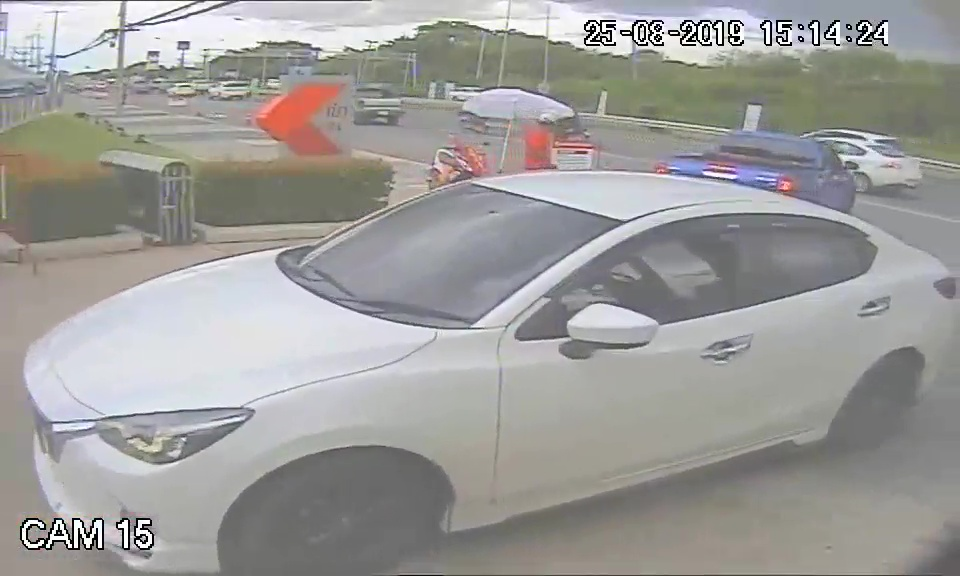sedan: (22, 163, 682, 546)
